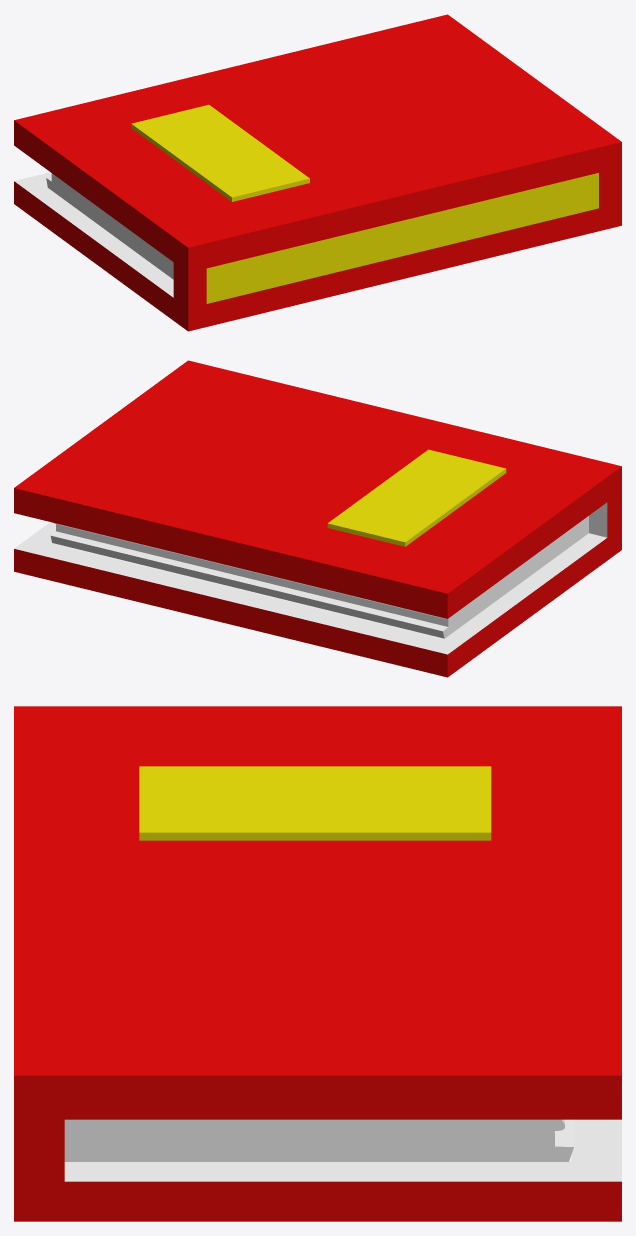
Rendered from Book.fbx.
3 renders of one model, top to bottom at view 1: azimuth 30°, elevation 25°; view 2: azimuth 150°, elevation 25°; view 3: azimuth 270°, elevation 25°, orthographic. The views are drawn at different scales.
Visible parts, largest first — view 1: Plane; view 2: Plane; view 3: Plane.
Part boxes in pixels (bbox=[...]): Plane: bbox=[14, 14, 621, 331]; Plane: bbox=[14, 360, 621, 677]; Plane: bbox=[14, 706, 621, 1221].
Size of the model in its own units: 314 by 60.99 by 218.
